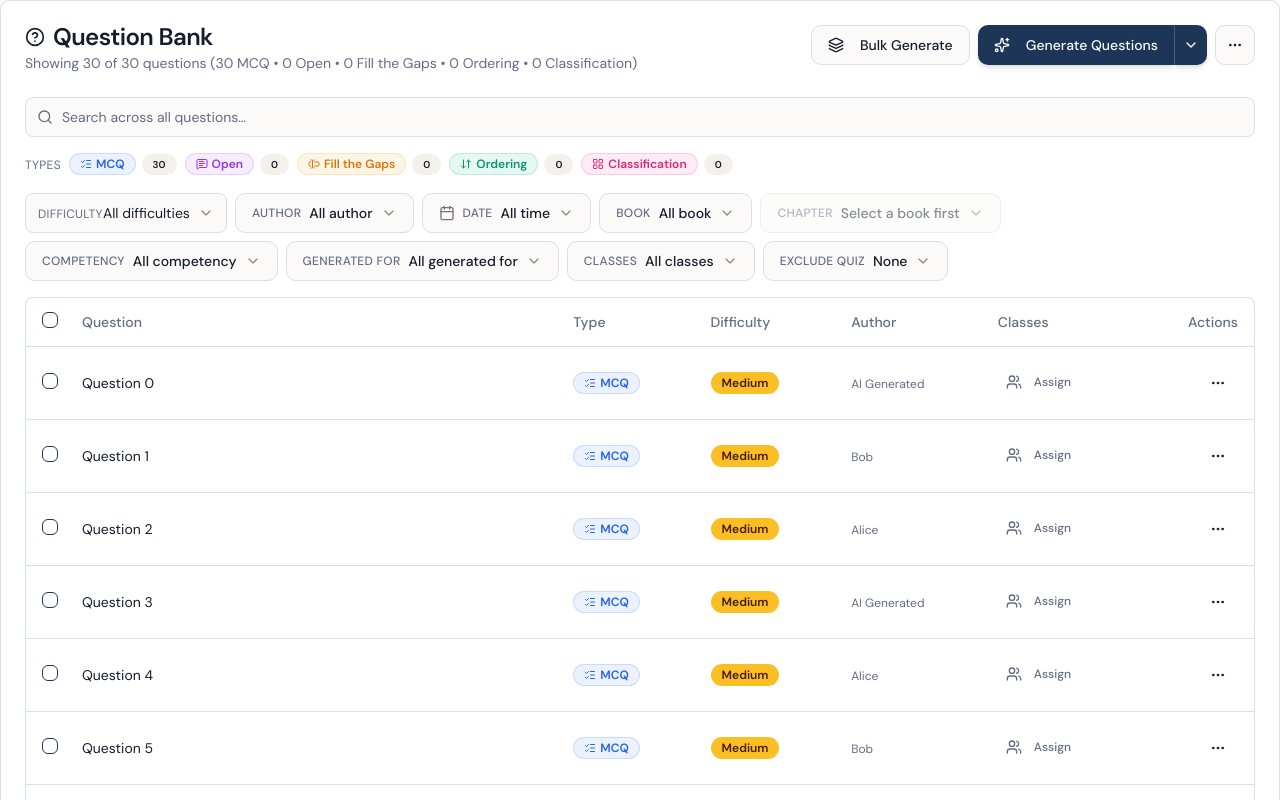
UnifiedQuestionBank #853 — generate from student cluster › shows the disabled hint when the section has no Student Groups
Click the button with test id "generate-cluster-trigger" at [1190, 45], box [1174,25,1207,65]
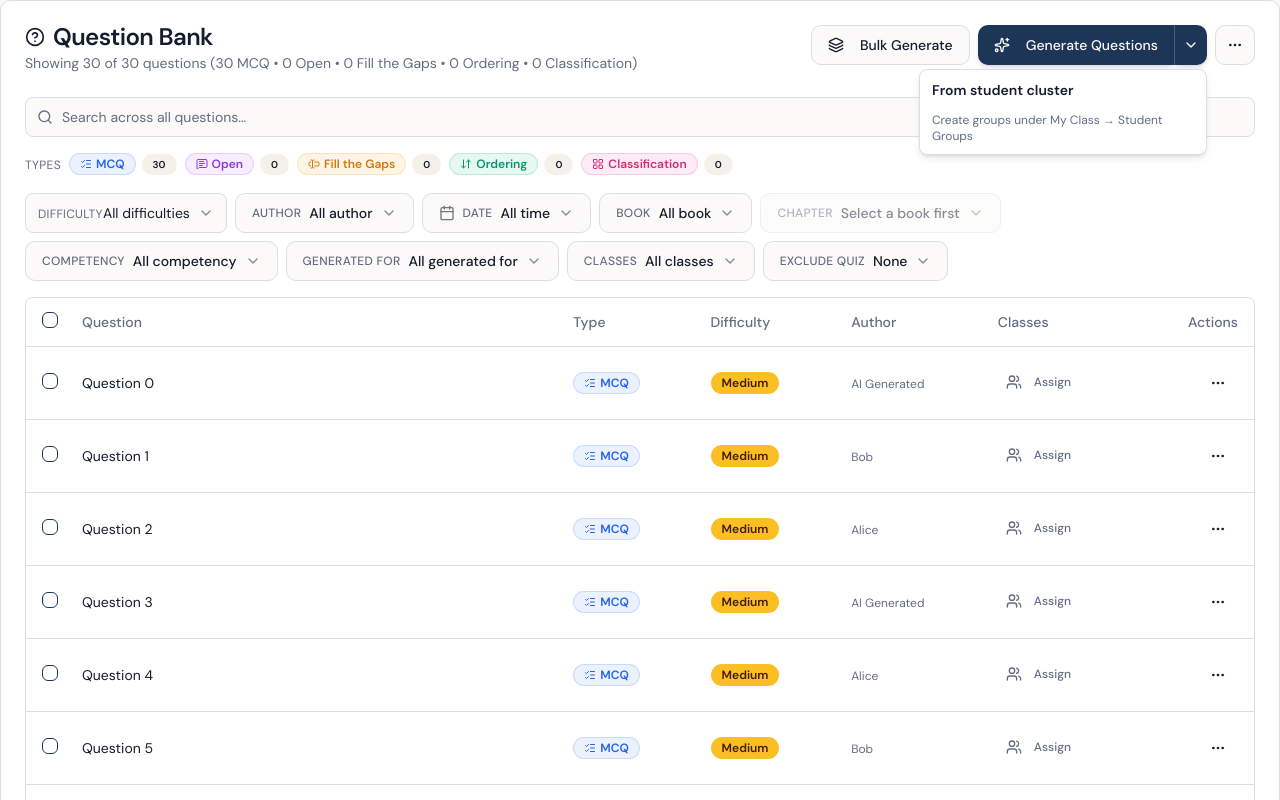
Now the menu item with test id "cluster-empty-hint" reads "Create groups under My Class → Student Groups", box [932,112,1163,144]
